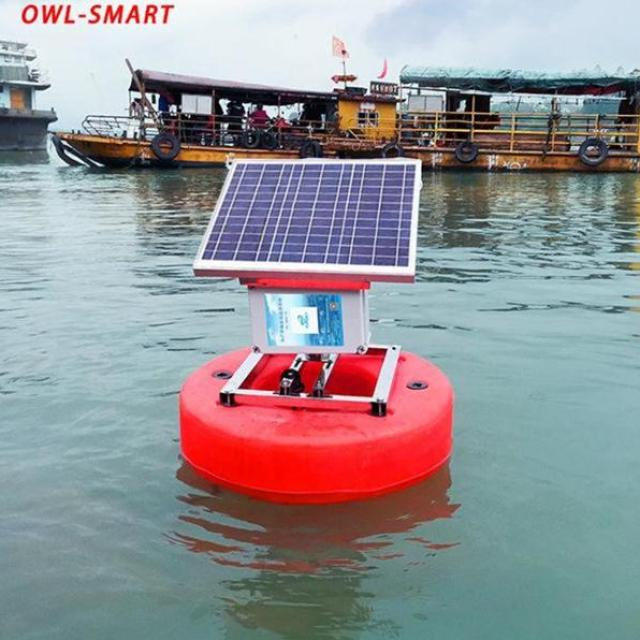buoy: (178, 153, 457, 498)
